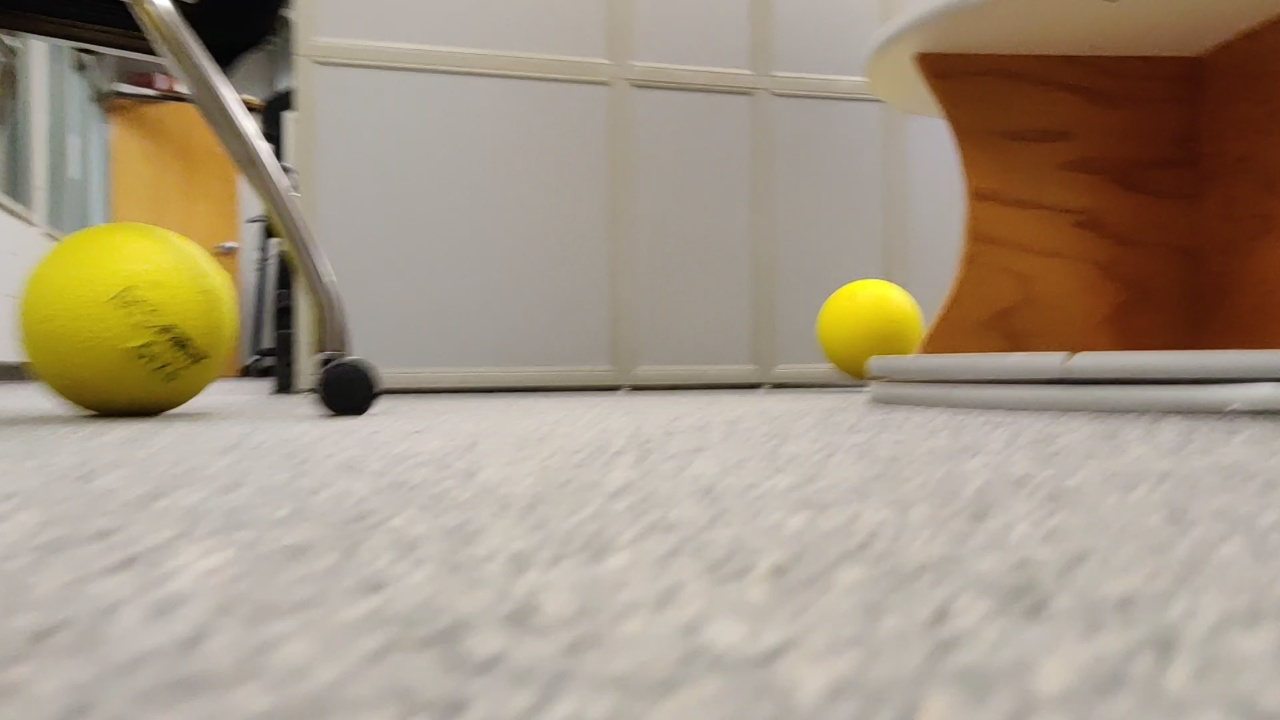Ball: (25, 223, 240, 423), (815, 278, 926, 383)
